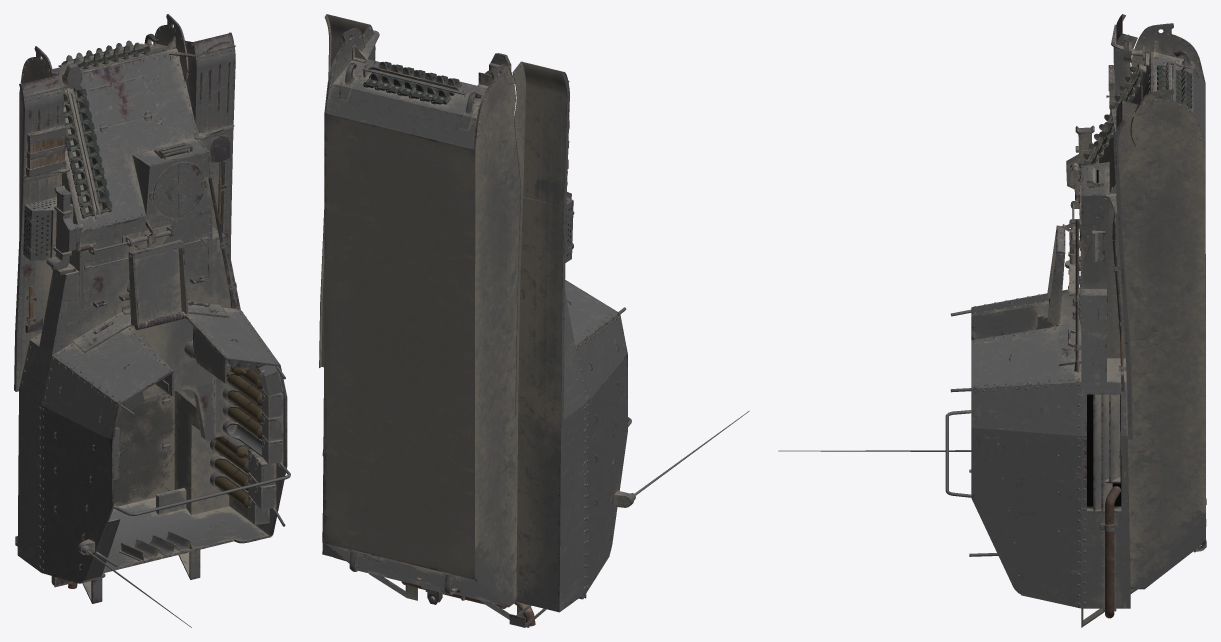
File: Hull.glb
3 views of the same model, side by side, from view 1: azimuth 30°, elevation 25°; view 2: azimuth 150°, elevation 25°; view 3: azimuth 270°, elevation 25° (orthographic). The views are drawn at different scales.
Visible parts, largest first — view 1: set_0_group_0; view 2: set_0_group_0; view 3: set_0_group_0.
Boxes of the visible parts, x1,y1,x2,y2 form: set_0_group_0: [14, 14, 290, 627]; set_0_group_0: [319, 14, 749, 627]; set_0_group_0: [778, 14, 1206, 627].
Bounding box in the file's own units: 2.23 × 5.08 × 3.62.
1 material, 1 textured.
